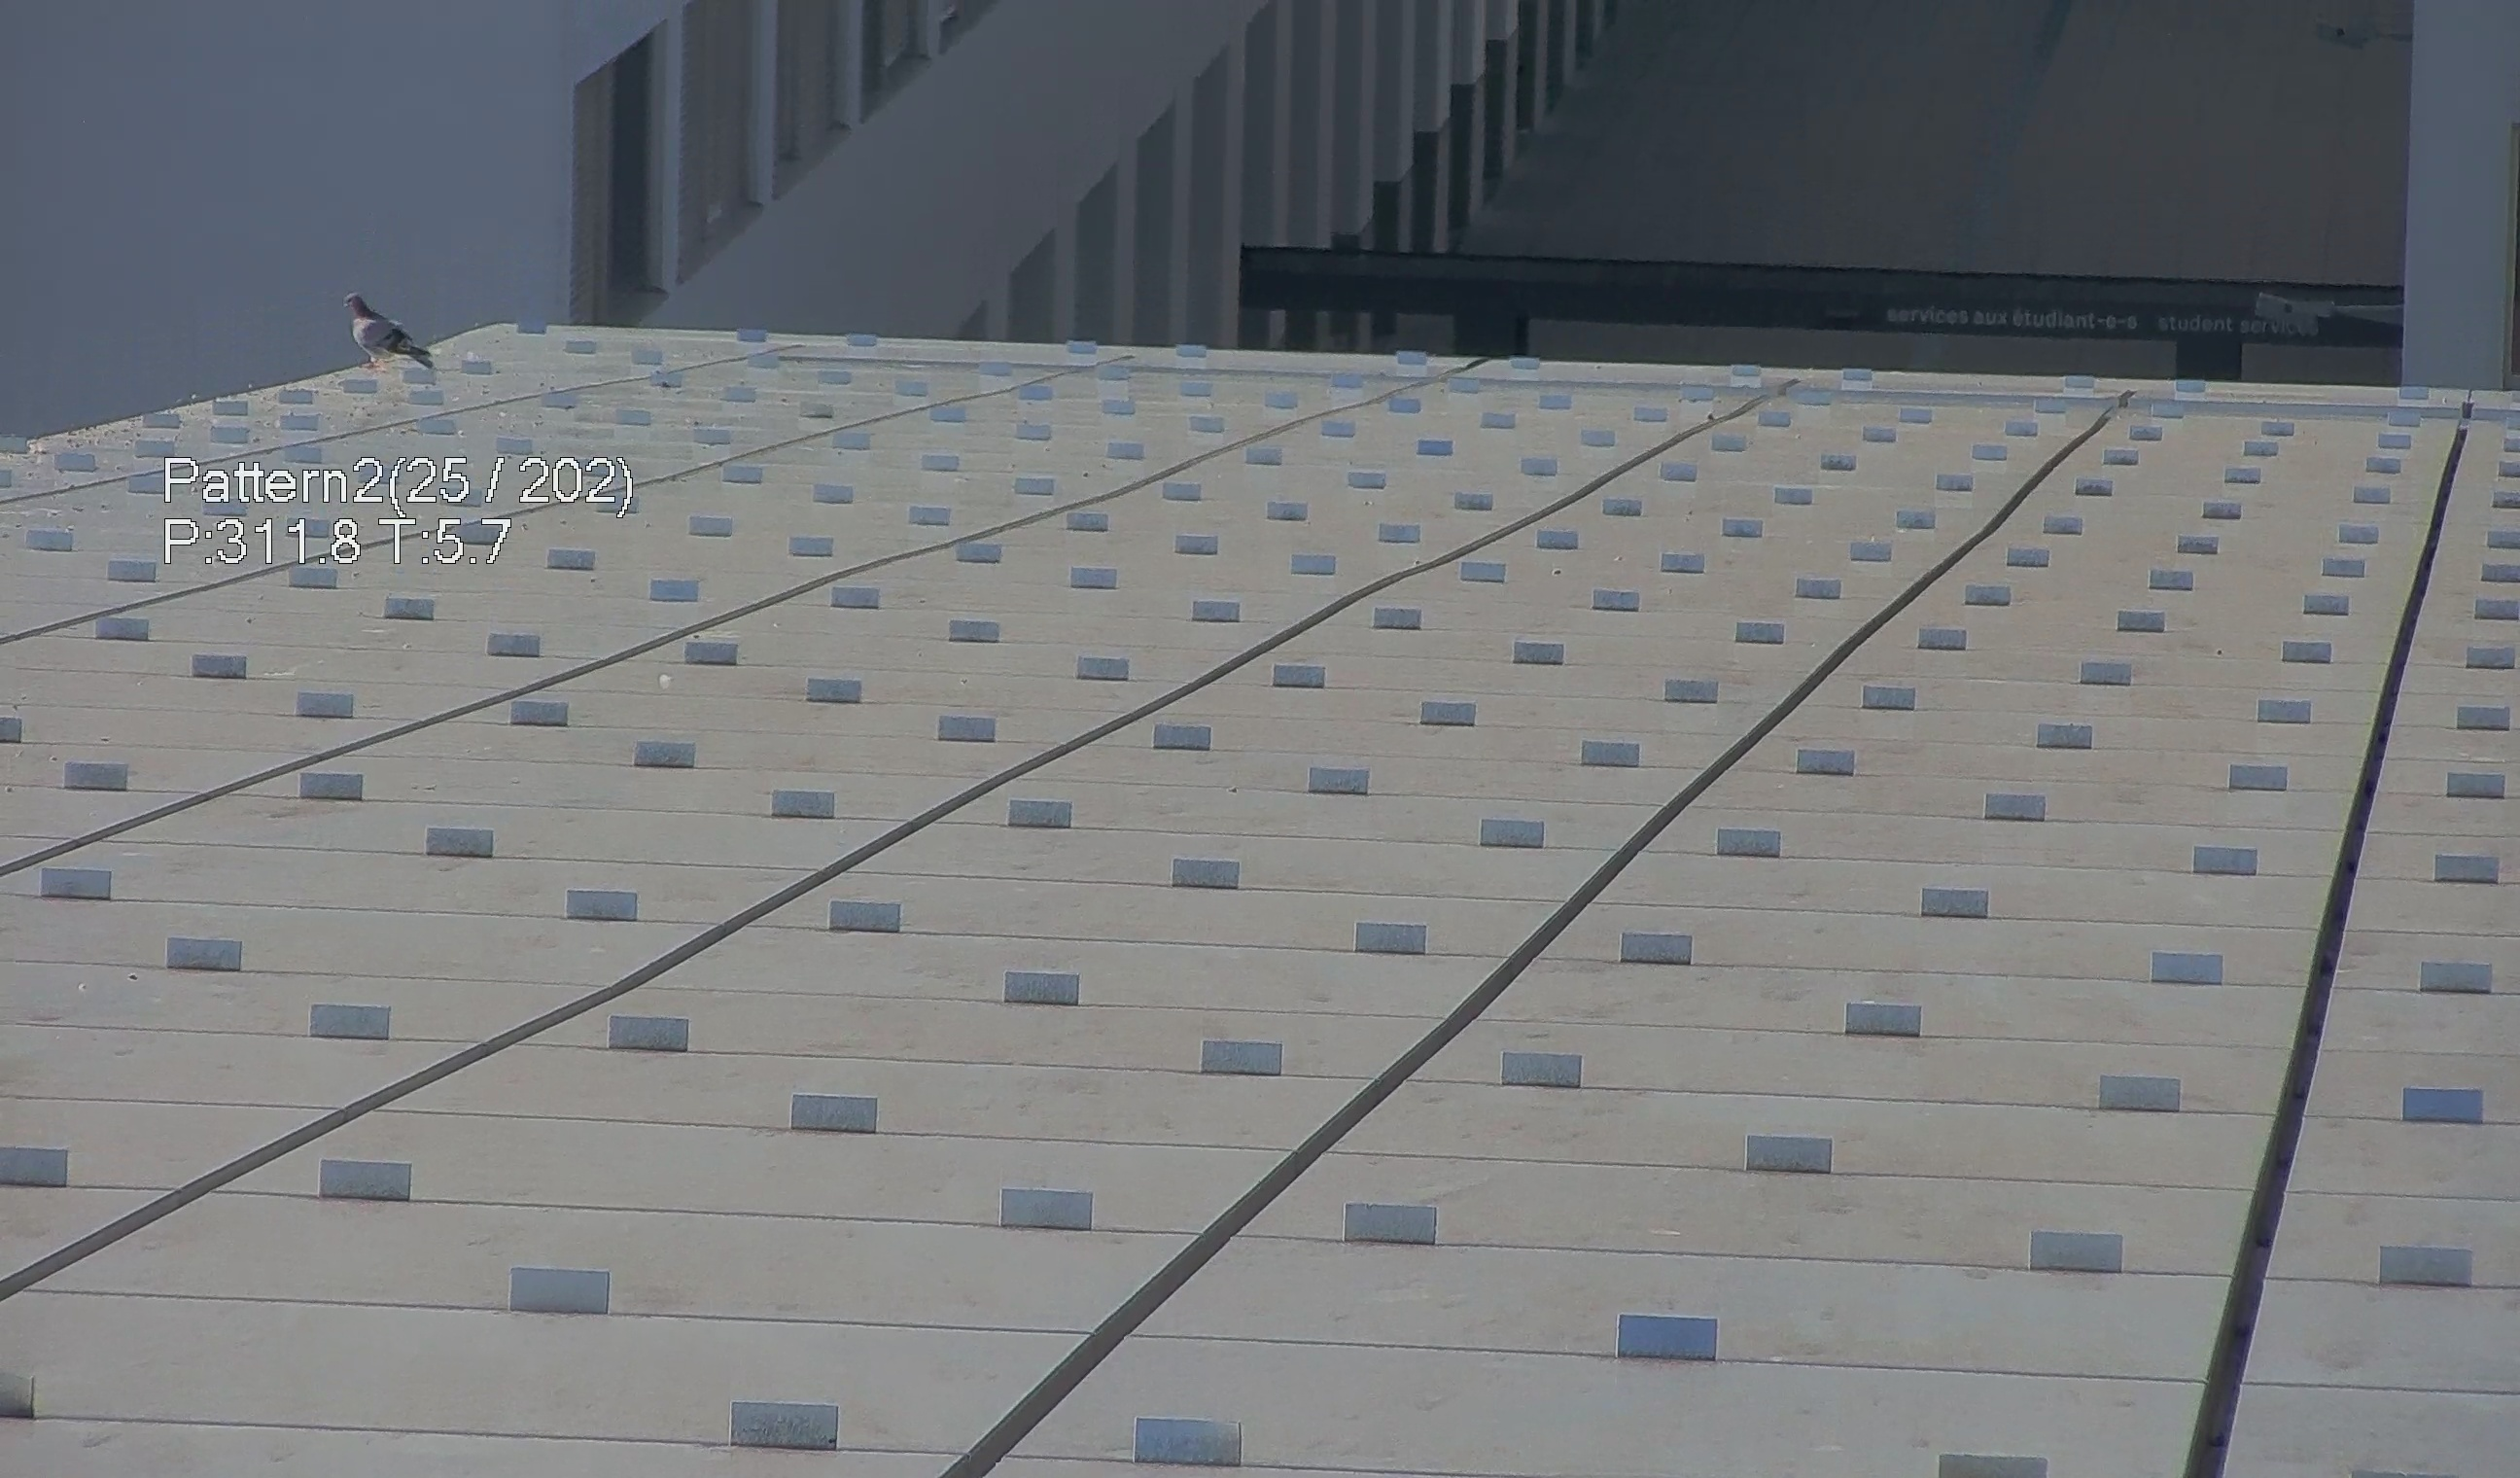Pigeon: (325, 282, 445, 380)
